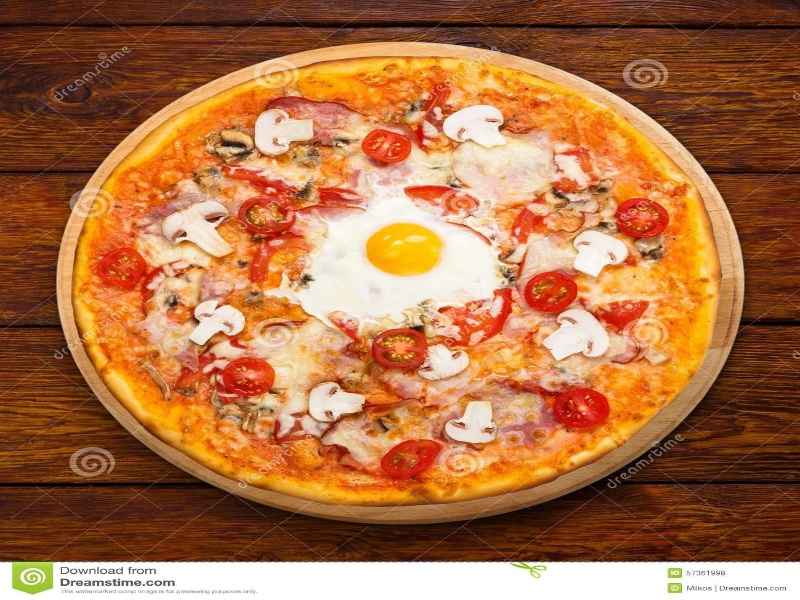champignon: (157, 198, 244, 265), (251, 99, 329, 163), (539, 303, 616, 367), (562, 222, 635, 287), (436, 92, 511, 152), (305, 374, 376, 431), (180, 294, 251, 351), (440, 395, 503, 453), (412, 340, 482, 384)
oeuf: (344, 211, 455, 297)
